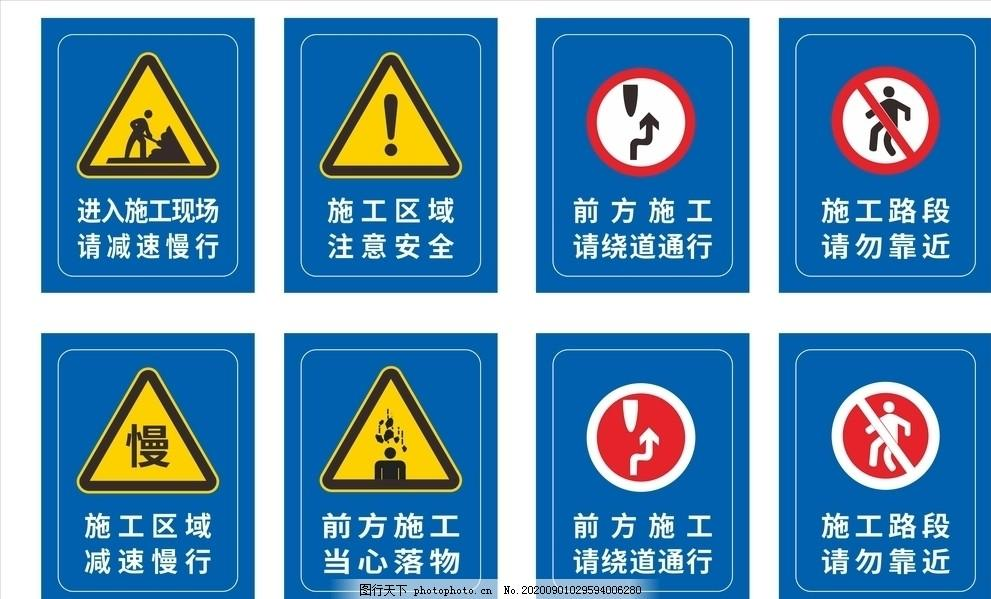sign: (786, 25, 985, 290), (539, 342, 745, 597), (542, 25, 742, 286), (292, 28, 495, 285), (45, 22, 246, 280), (786, 340, 984, 599), (49, 340, 245, 597), (290, 337, 482, 594)
